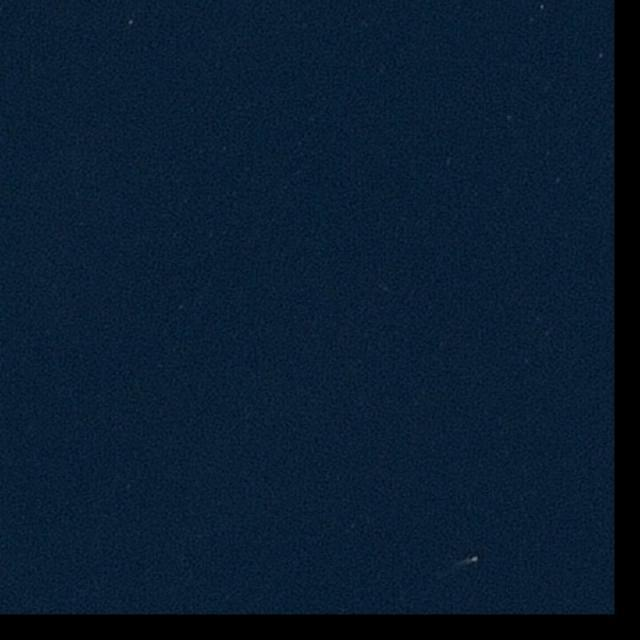ship: (470, 556, 479, 562)
